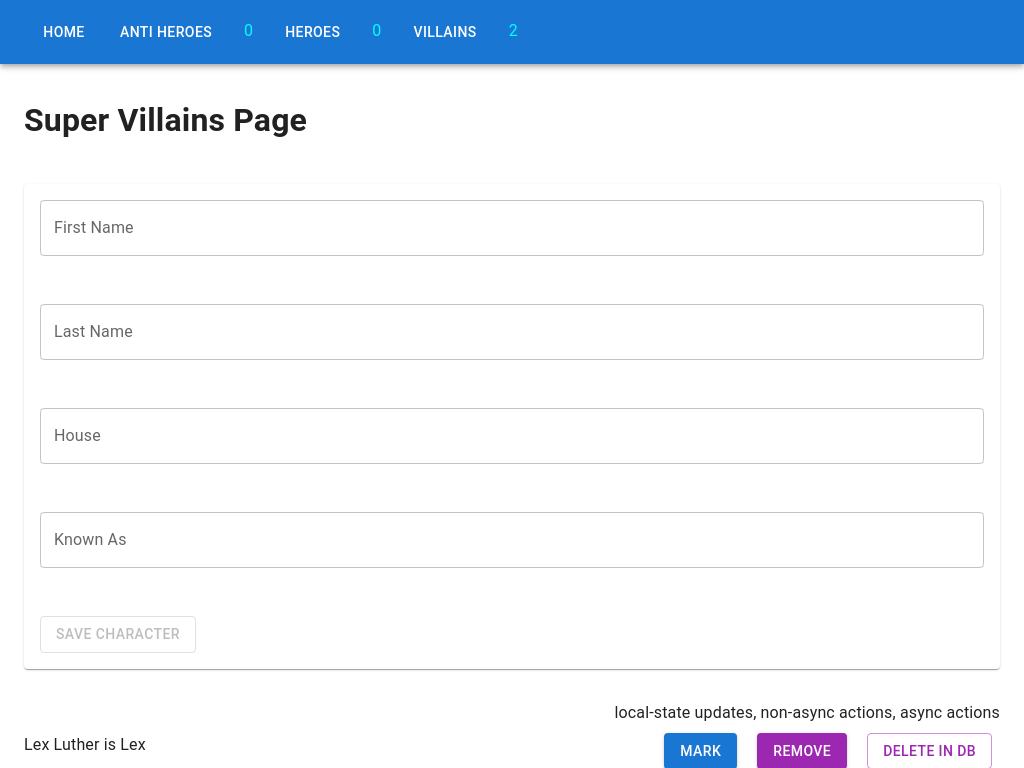
Test: Villains Page › should mark a villain
This screenshot has width=1024, height=768.
Step 1. Click the button with test id "mark-button" → (701, 751), box [664,732,737,767]
(page scrolled)
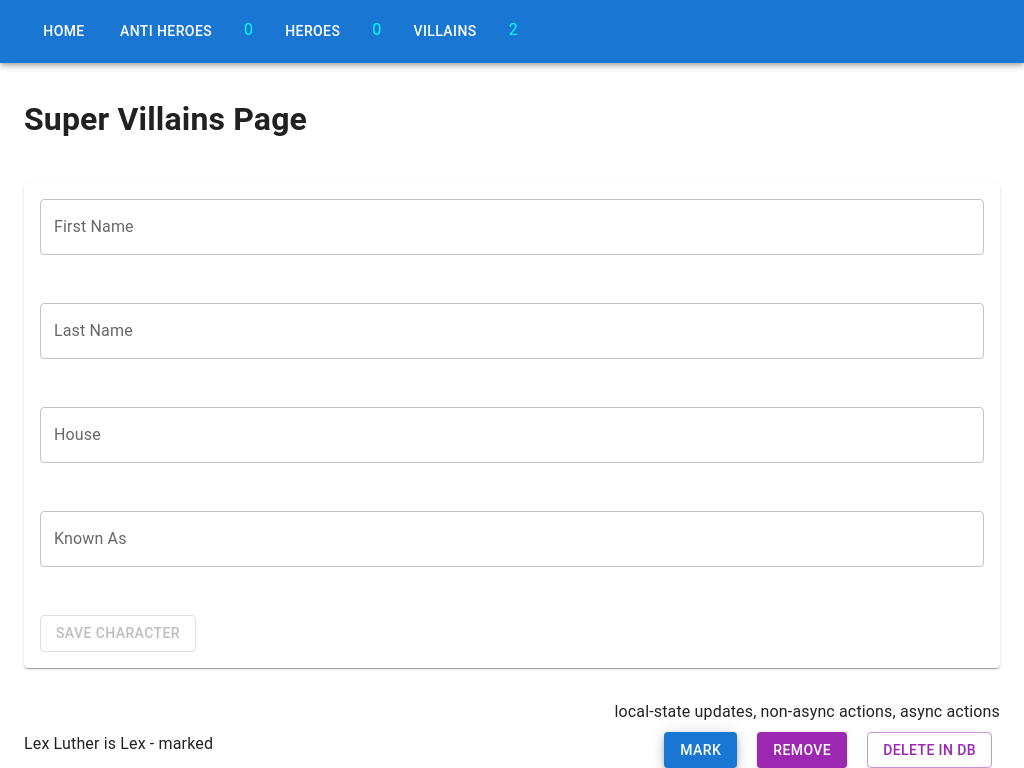
Expected: the element with test id "card" shows "marked", [146,734,213,752]
